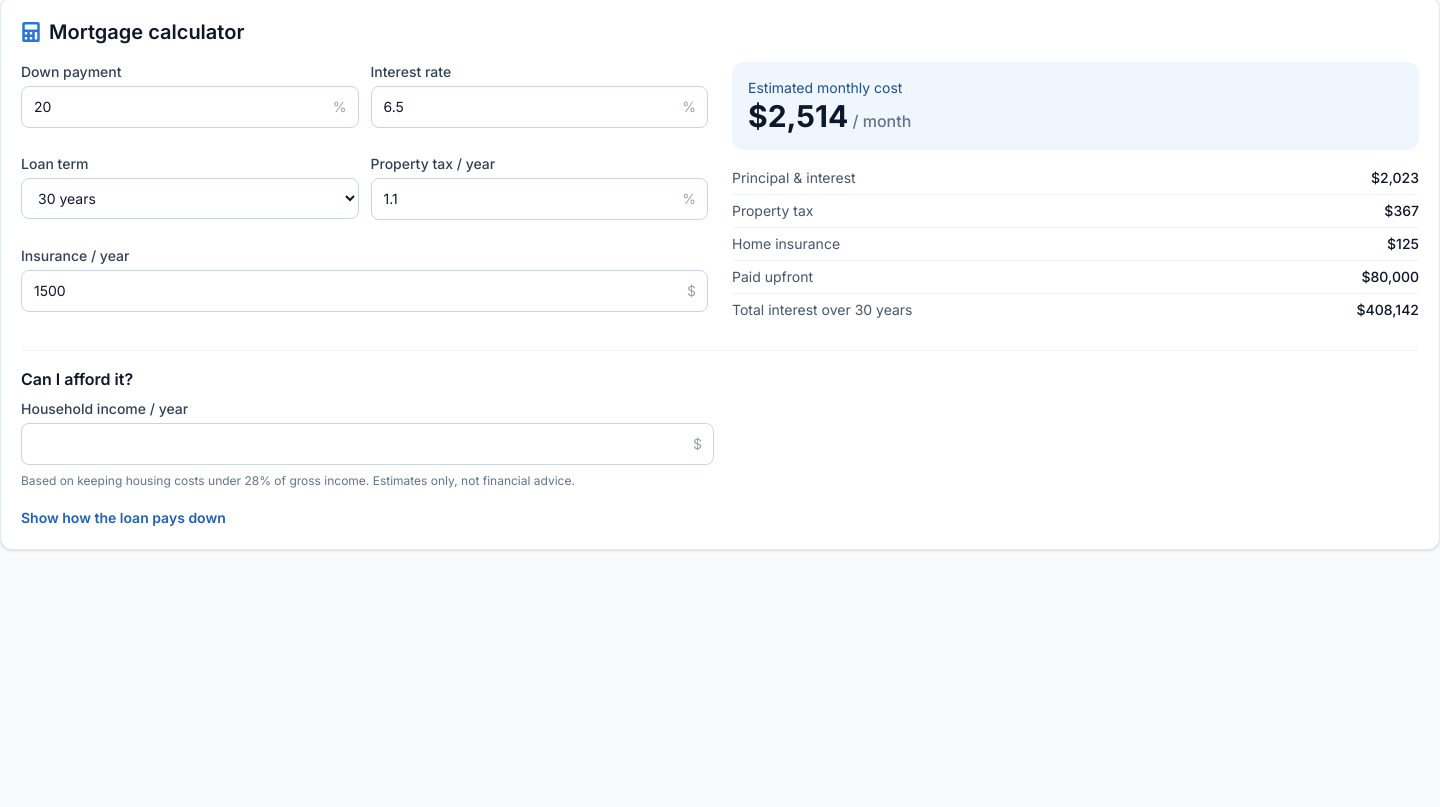
MortgageCalculator › shows the yearly pay-down schedule on request
Click the button "Show how the loan pays down".
click(123, 518)  # box [21,508,226,528]
(page scrolled)
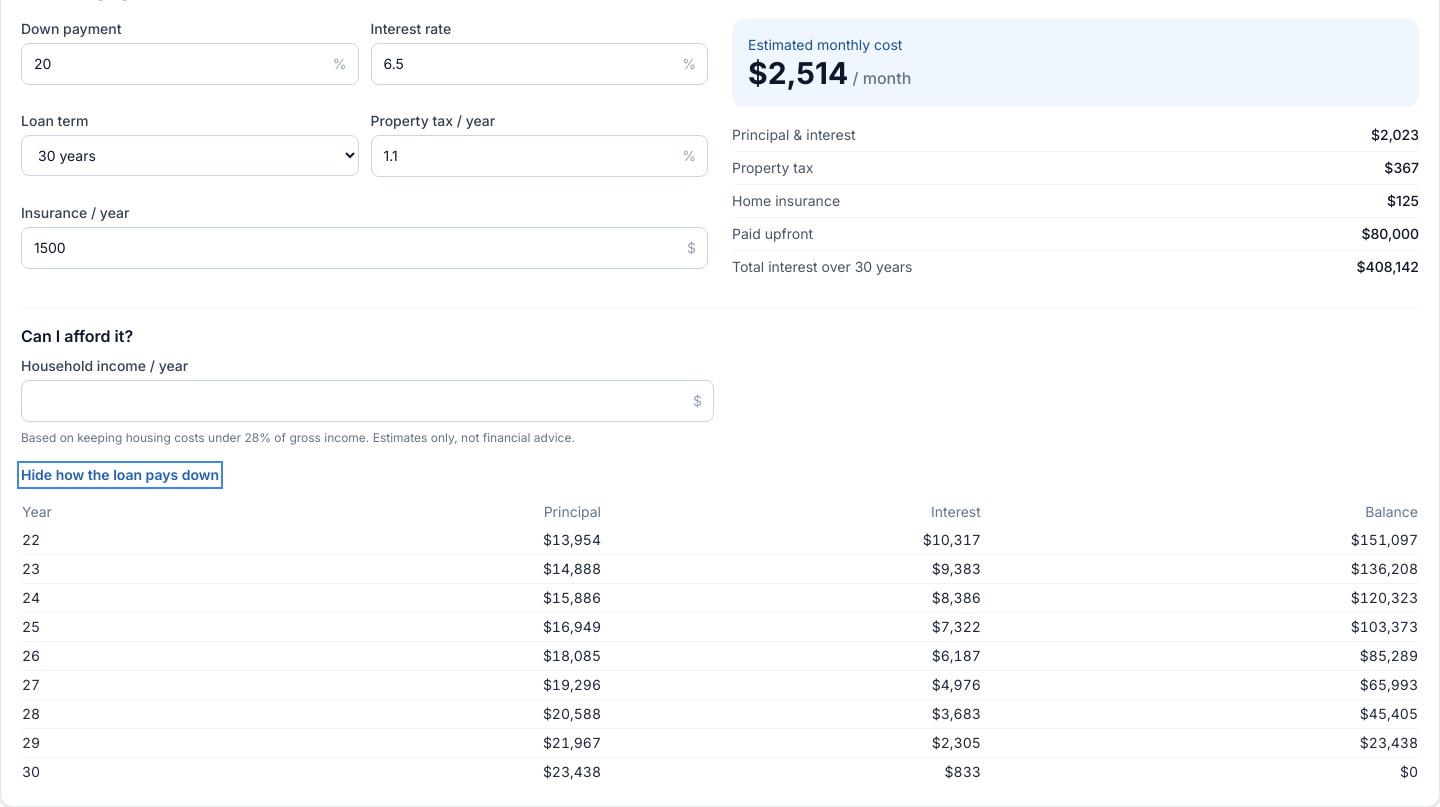
Expected: the row "30 $23,438 $833 $0" is shown, [21,758,1419,786]
